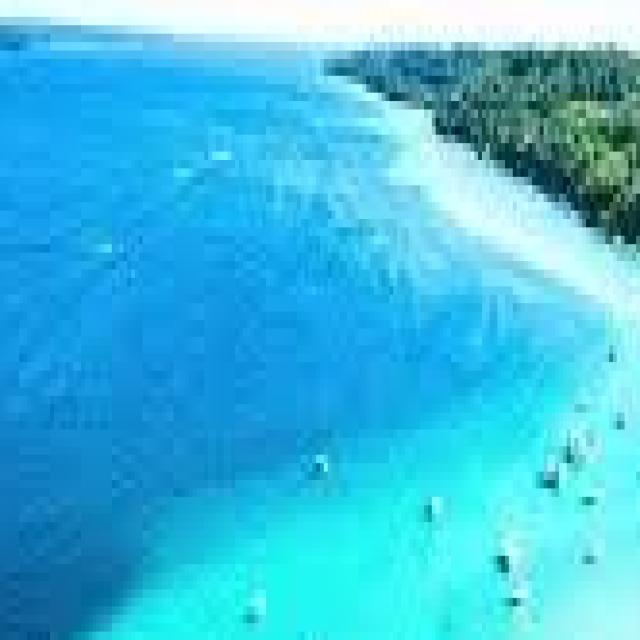-: (0, 8, 293, 404), (65, 454, 215, 640)
